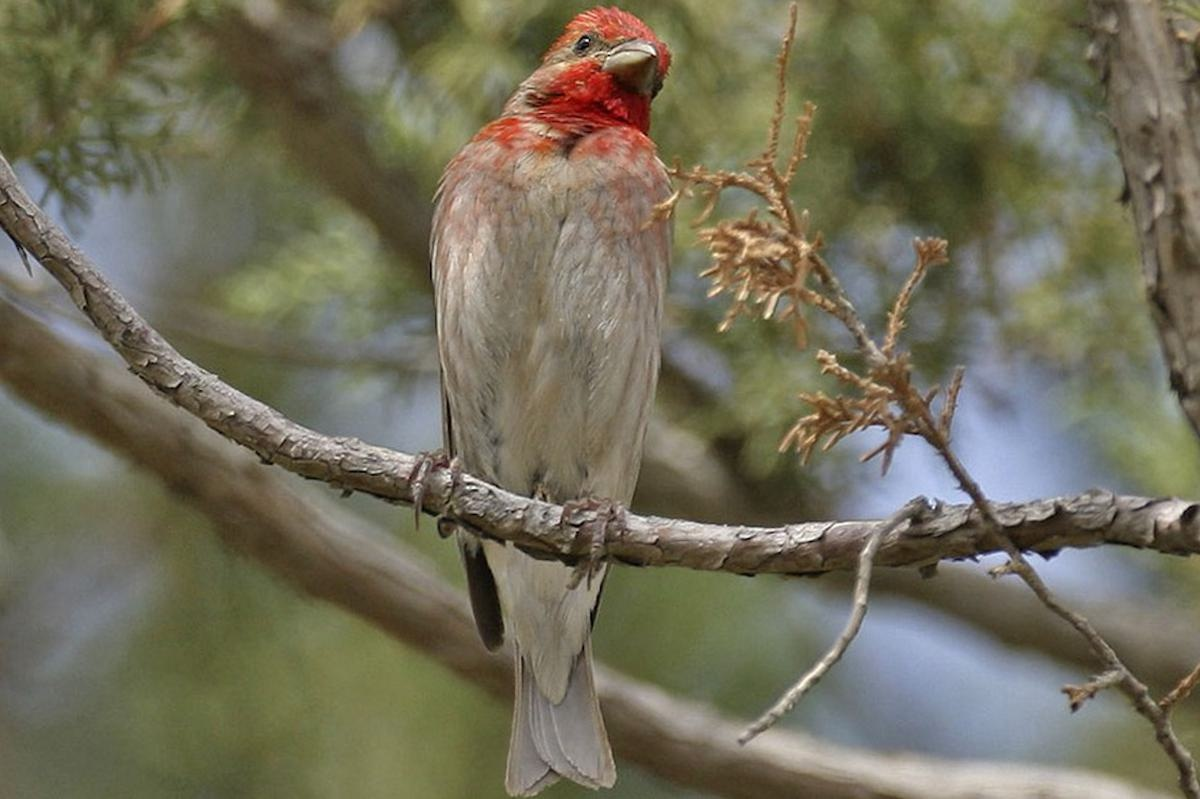rosefinch: (431, 14, 696, 643)
